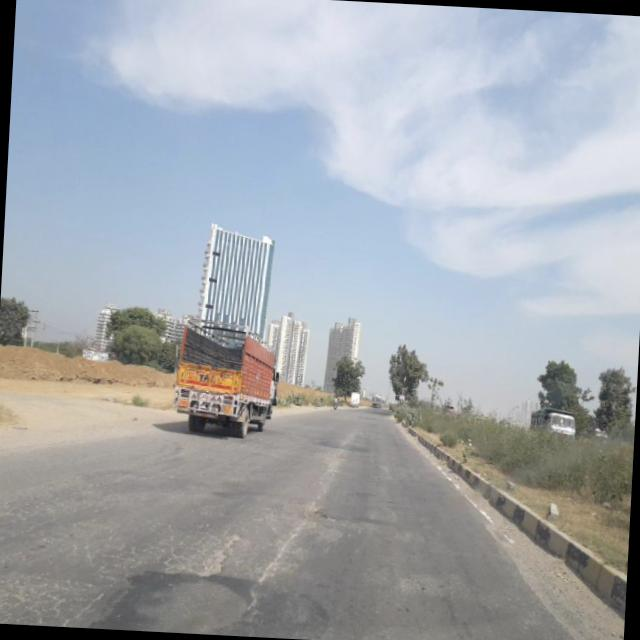crack: (0, 473, 245, 635), (184, 520, 246, 582)
pothole: (238, 454, 342, 631), (427, 593, 512, 640)
